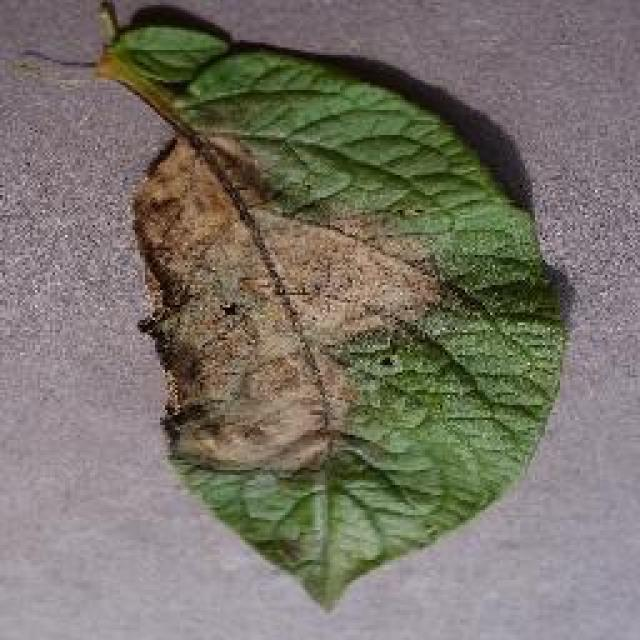Potato___Late_blight: (94, 3, 583, 618)
